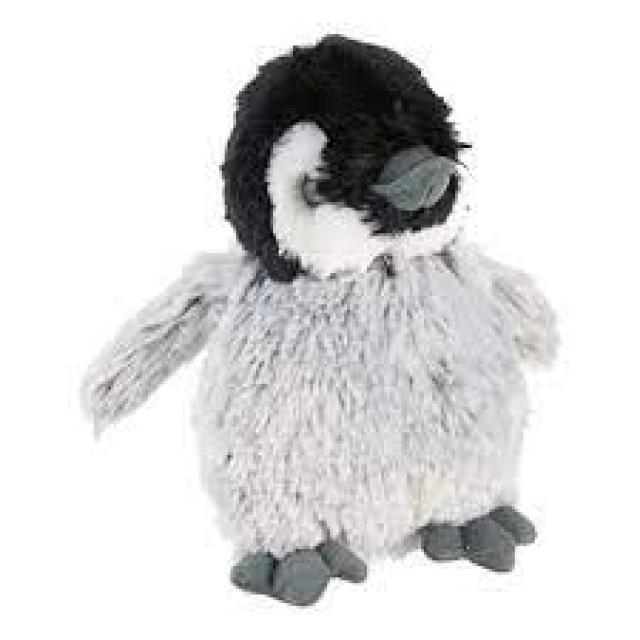soft-toy: (86, 36, 557, 606)
